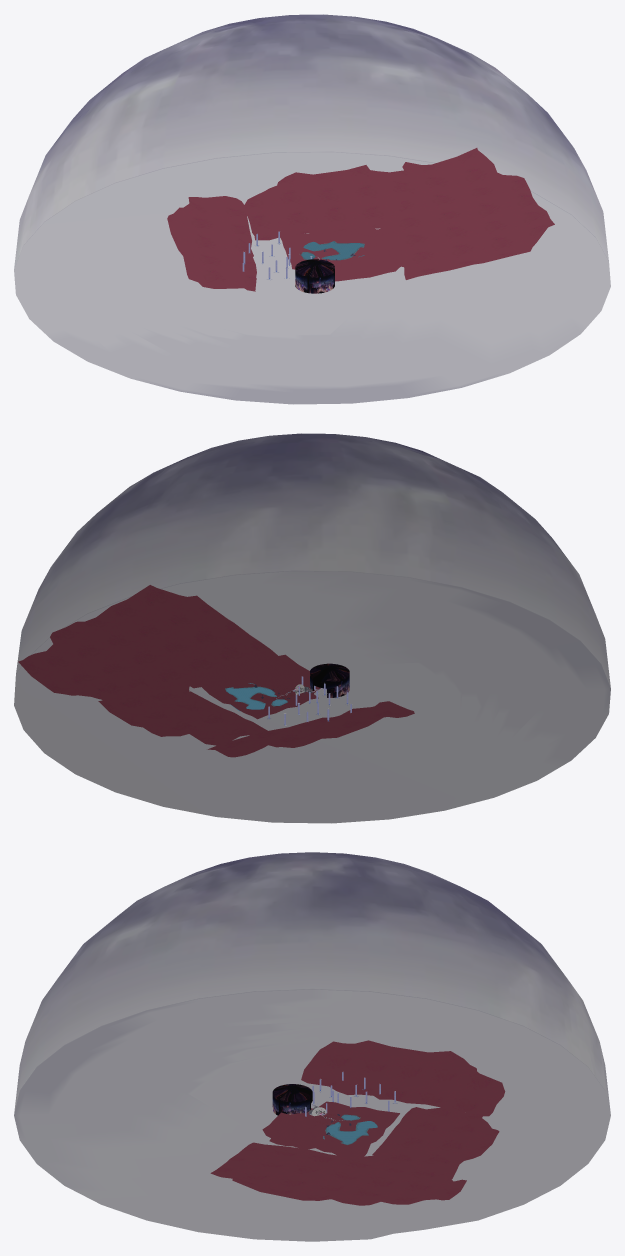
Rendered from track.glb.
The picture shows the model from 3 angles, top to bottom: view 1: azimuth 30°, elevation 25°; view 2: azimuth 150°, elevation 25°; view 3: azimuth 270°, elevation 25°; orthographic projection.
Parts seen in each view (by area): view 1: sky:E_PolarisWonderland_Sky_02, E_PolarisWonderland_Glass_01|lm0@30,26, sky:E_PolarisWonderland_Sky_01, E_PolarisWonderland_Water_01@24,25; view 2: sky:E_PolarisWonderland_Sky_02, E_PolarisWonderland_Glass_01|lm0@30,26, sky:E_PolarisWonderland_Sky_01, E_PolarisWonderland_Water_01@24,25; view 3: sky:E_PolarisWonderland_Sky_02, E_PolarisWonderland_Glass_01|lm0@30,26, sky:E_PolarisWonderland_Sky_01, E_PolarisWonderland_Water_01@24,25.
Boxes of the visible parts, bbox=[...] form: sky:E_PolarisWonderland_Sky_02: bbox=[14, 14, 610, 404]; E_PolarisWonderland_Glass_01|lm0@30,26: bbox=[167, 148, 554, 291]; sky:E_PolarisWonderland_Sky_01: bbox=[295, 259, 334, 293]; E_PolarisWonderland_Water_01@24,25: bbox=[301, 241, 364, 260]; sky:E_PolarisWonderland_Sky_02: bbox=[14, 433, 610, 823]; E_PolarisWonderland_Glass_01|lm0@30,26: bbox=[18, 585, 414, 757]; sky:E_PolarisWonderland_Sky_01: bbox=[310, 663, 349, 697]; E_PolarisWonderland_Water_01@24,25: bbox=[225, 683, 287, 711]; sky:E_PolarisWonderland_Sky_02: bbox=[14, 852, 610, 1241]; E_PolarisWonderland_Glass_01|lm0@30,26: bbox=[210, 1040, 505, 1205]; sky:E_PolarisWonderland_Sky_01: bbox=[272, 1084, 312, 1115]; E_PolarisWonderland_Water_01@24,25: bbox=[323, 1114, 377, 1144].
Bounding box in the file's own units: 37930 × 16212 × 37930.
64 materials, 61 textured.
